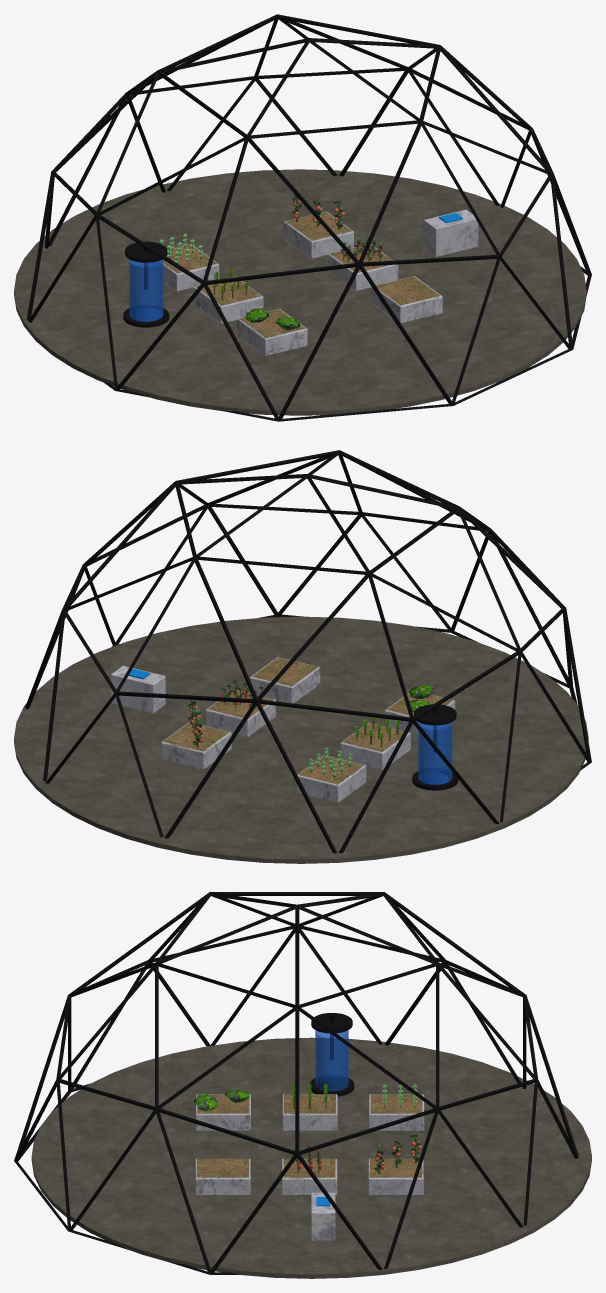
The model's file is INVERNADERO_OPACO.fbx.
3 renders of one model, top to bottom at view 1: azimuth 30°, elevation 25°; view 2: azimuth 150°, elevation 25°; view 3: azimuth 270°, elevation 25°, orthographic. The views are drawn at different scales.
Parts seen in each view (by area): view 1: iNV_SUELO.002, Inv_DomoGeodesico_Estructura, Inv_Tanque_LiquidoAzul, Inv_BancoTrabajo, Inv_Macetero_F1_1, Inv_Macetero_F2_3, Inv_Macetero_F2_1, Inv_Macetero_F2_2, Inv_Macetero_F1_2, Inv_Macetero_F1_3, Inv_Tierra_F2_1, Inv_Tierra_F2_3 (+6 smaller); view 2: iNV_SUELO.002, Inv_DomoGeodesico_Estructura, Inv_Tanque_LiquidoAzul, Inv_BancoTrabajo, Inv_Macetero_F1_3, Inv_Macetero_F2_3, Inv_Macetero_F2_1, Inv_Macetero_F1_2, Inv_Macetero_F2_2, Inv_Tierra_F2_1, Inv_Tierra_F2_3, Inv_Tierra_F1_2 (+5 smaller); view 3: iNV_SUELO.002, Inv_DomoGeodesico_Estructura, Inv_Tanque_LiquidoAzul, Inv_Macetero_F2_1, Inv_Macetero_F1_2, Inv_Macetero_F2_3, Inv_BancoTrabajo, Inv_Tierra_F2_1, Inv_Macetero_F1_1, Inv_Macetero_F2_2, Inv_Macetero_F1_3, Inv_Tierra_F1_3 (+6 smaller).
Part boxes in pixels (<box>): iNV_SUELO.002: <box>14,169,586,415</box>; Inv_DomoGeodesico_Estructura: <box>26,14,591,421</box>; Inv_Tanque_LiquidoAzul: <box>129,259,163,321</box>; Inv_BancoTrabajo: <box>423,209,478,257</box>; Inv_Macetero_F1_1: <box>237,308,307,356</box>; Inv_Macetero_F2_3: <box>283,211,353,258</box>; Inv_Macetero_F2_1: <box>372,276,442,323</box>; Inv_Macetero_F2_2: <box>328,244,398,291</box>; Inv_Macetero_F1_2: <box>193,276,263,323</box>; Inv_Macetero_F1_3: <box>149,244,219,291</box>; Inv_Tierra_F2_1: <box>376,276,439,305</box>; Inv_Tierra_F2_3: <box>286,211,351,240</box>; iNV_SUELO.002: <box>14,616,588,863</box>; Inv_DomoGeodesico_Estructura: <box>25,450,591,853</box>; Inv_Tanque_LiquidoAzul: <box>418,722,452,784</box>; Inv_BancoTrabajo: <box>110,665,165,713</box>; Inv_Macetero_F1_3: <box>296,755,366,802</box>; Inv_Macetero_F2_3: <box>161,722,231,769</box>; Inv_Macetero_F2_1: <box>249,657,320,703</box>; Inv_Macetero_F1_2: <box>340,722,410,770</box>; Inv_Macetero_F2_2: <box>205,689,275,737</box>; Inv_Tierra_F2_1: <box>252,657,317,686</box>; Inv_Tierra_F2_3: <box>163,722,229,751</box>; Inv_Tierra_F1_2: <box>342,723,408,751</box>; iNV_SUELO.002: <box>31,1037,591,1278</box>; Inv_DomoGeodesico_Estructura: <box>14,892,578,1274</box>; Inv_Tanque_LiquidoAzul: <box>315,1030,348,1091</box>; Inv_Macetero_F2_1: <box>195,1158,250,1195</box>; Inv_Macetero_F1_2: <box>282,1094,337,1131</box>; Inv_Macetero_F2_3: <box>368,1158,423,1195</box>; Inv_BancoTrabajo: <box>311,1192,335,1240</box>; Inv_Tierra_F2_1: <box>197,1158,248,1177</box>; Inv_Macetero_F1_1: <box>195,1094,250,1131</box>; Inv_Macetero_F2_2: <box>281,1158,337,1195</box>; Inv_Macetero_F1_3: <box>368,1094,424,1131</box>; Inv_Tierra_F1_3: <box>370,1094,422,1113</box>.
Size of the model in its own units: 1619 by 820 by 1670.
77 materials, 68 textured.
